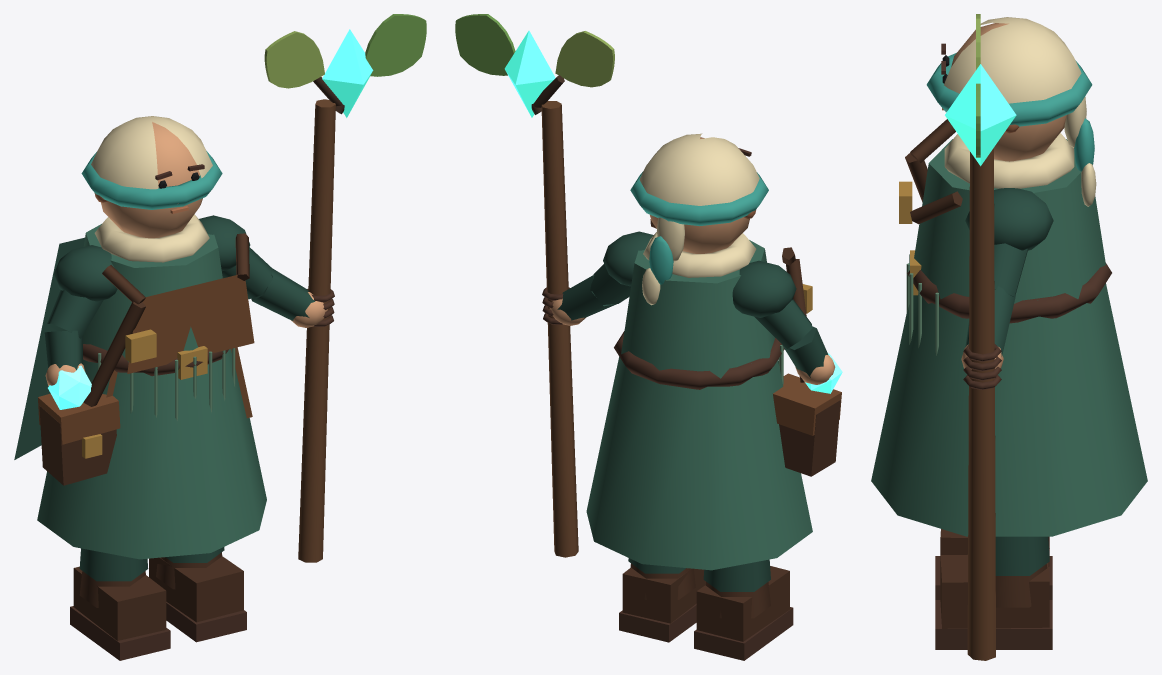
The model's file is villager.glb.
The picture shows the model from 3 angles, left to right: view 1: azimuth 30°, elevation 25°; view 2: azimuth 150°, elevation 25°; view 3: azimuth 270°, elevation 25°; orthographic projection. The views are drawn at different scales.
Parts seen in each view (by area): view 1: Medieval_Fantasy_Villager_Woman, Crystal_Staff; view 2: Medieval_Fantasy_Villager_Woman, Crystal_Staff; view 3: Medieval_Fantasy_Villager_Woman, Crystal_Staff.
Part boxes in pixels (x1,y1,x2,y2): Medieval_Fantasy_Villager_Woman: [14, 116, 327, 660]; Crystal_Staff: [264, 14, 426, 562]; Medieval_Fantasy_Villager_Woman: [549, 133, 842, 660]; Crystal_Staff: [455, 14, 614, 557]; Medieval_Fantasy_Villager_Woman: [871, 17, 1147, 649]; Crystal_Staff: [945, 14, 1016, 660].
Bounding box in the file's own units: 2.69 × 3.84 × 1.44.
